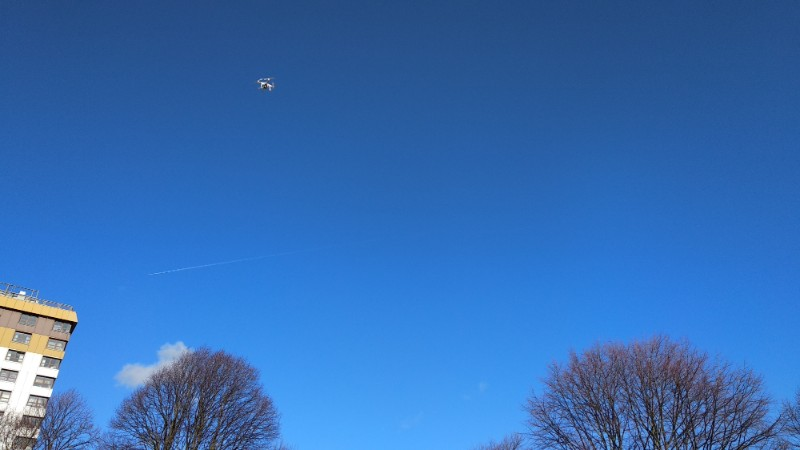drone: (256, 75, 277, 93)
